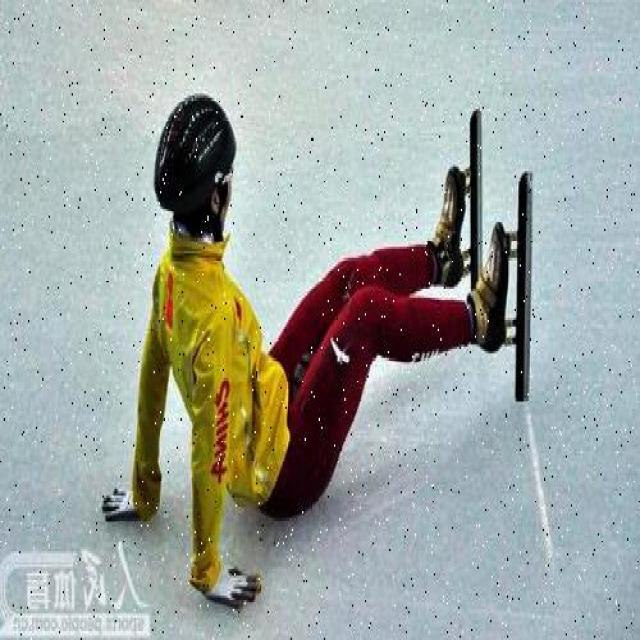fall: (106, 114, 506, 596)
